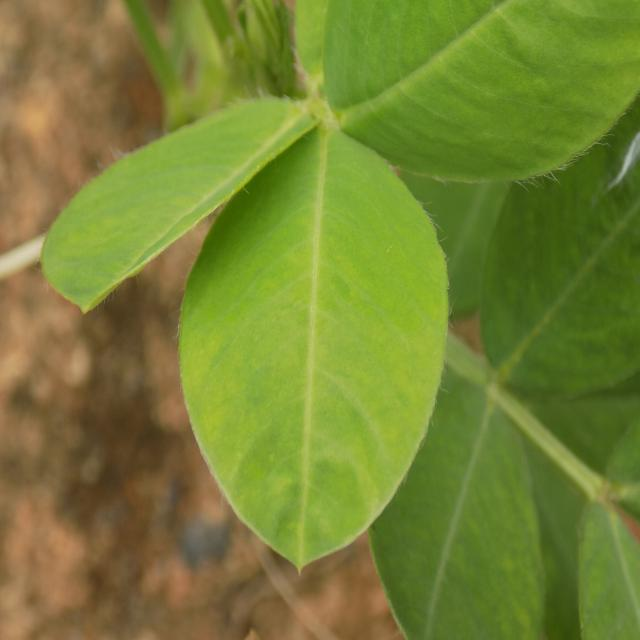Ground nut_healthy: (174, 123, 451, 564)
